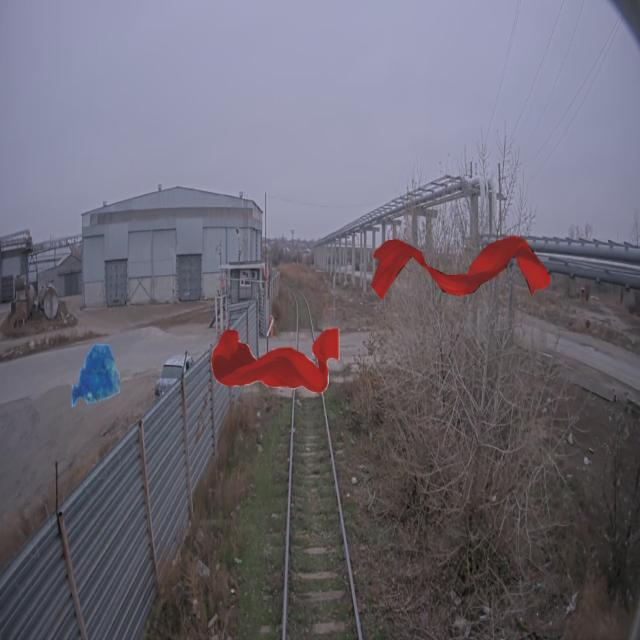floating object: (371, 236, 550, 300), (211, 329, 339, 393)
plastic bag: (71, 343, 122, 407)
